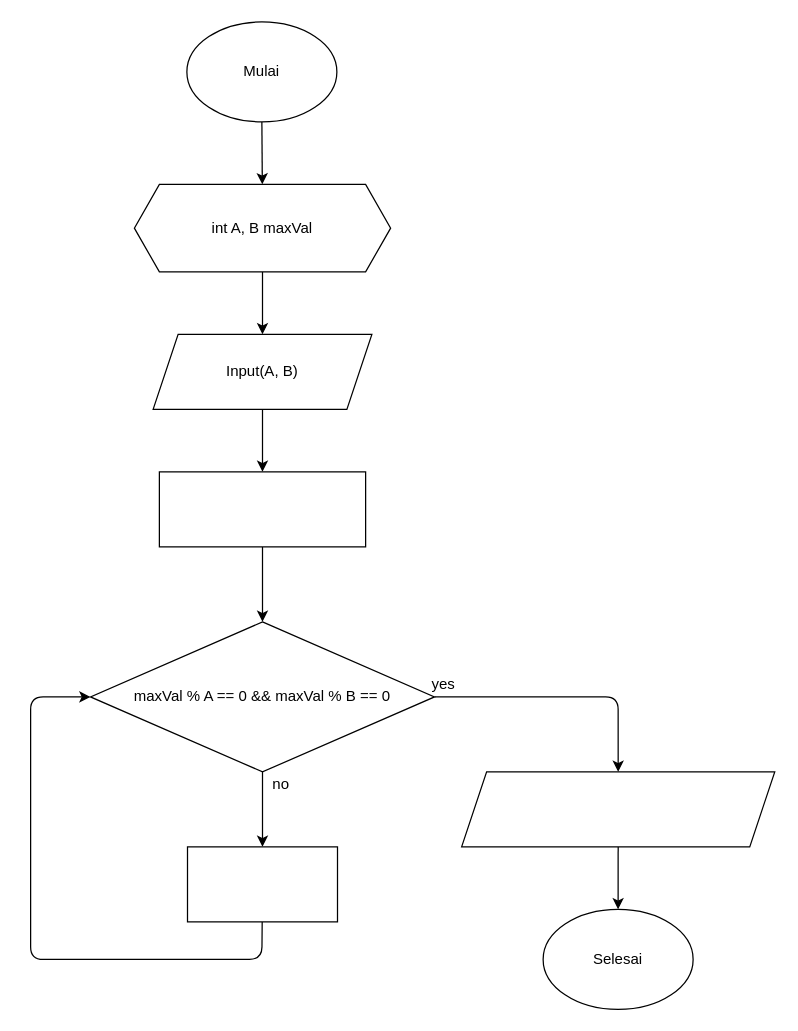
The diagram is 798 pixels wide and 1031 high, and some of its shapes have lost their labels. Here are the shapes that lost their labels. From the top down, the centre of each, then its label:
(x=262, y=509): maxVal = Math.max(A, B)
(x=617, y=809): Output("KPK dari " + A + " dan " + B + " adalah: " + maxVal)
(x=262, y=884): maxVal++
